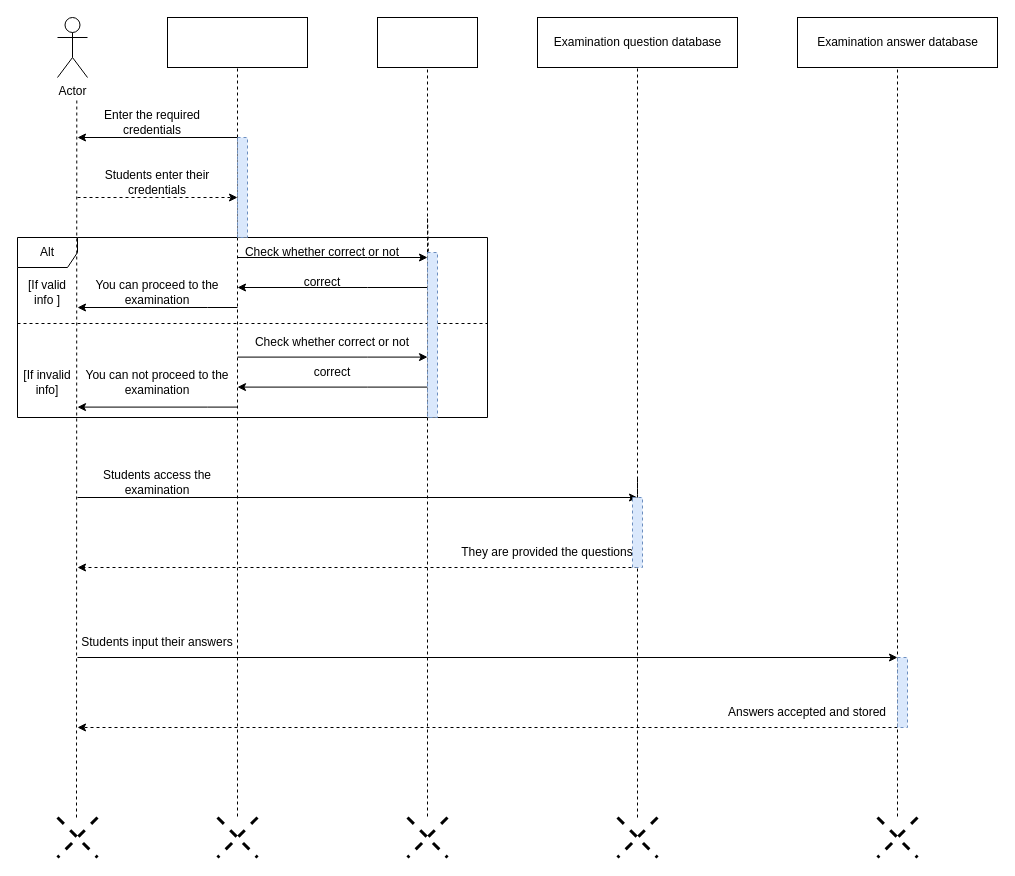
This 1015x876 diagram has some shape labels left out. The box of each missing label's shape, as (x1, y1, x2, y2) in pixels:
Online exam portal: (166, 16, 308, 68)
Sudents records: (376, 16, 478, 68)
